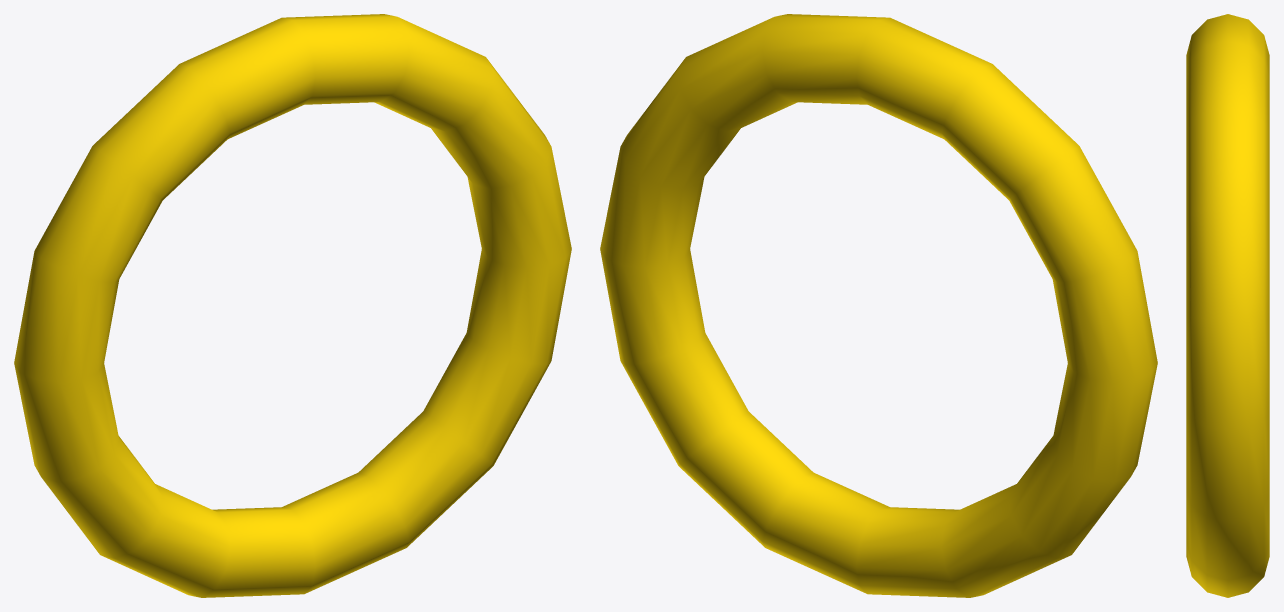
Rendered from Ring.fbx.
3 views of the same model, side by side, from view 1: azimuth 30°, elevation 25°; view 2: azimuth 150°, elevation 25°; view 3: azimuth 270°, elevation 25° (orthographic). The views are drawn at different scales.
Visible parts, largest first — view 1: Ring; view 2: Ring; view 3: Ring.
Part boxes in pixels (box(x1,y1,x2,y2)): Ring: box(14, 14, 571, 597); Ring: box(600, 14, 1157, 597); Ring: box(1186, 14, 1269, 597).
Bounding box in the file's own units: 2.1 × 2.1 × 0.3.
Materials: 1 (1 with a texture image).
